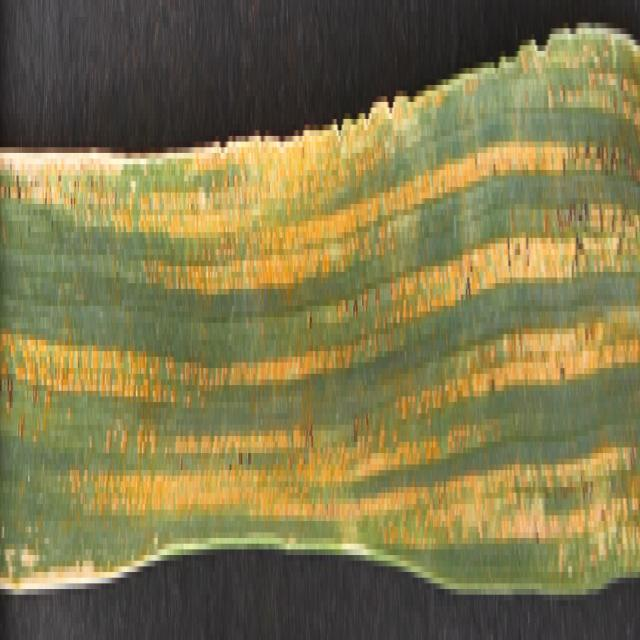leaf rust: (1, 79, 640, 577)
